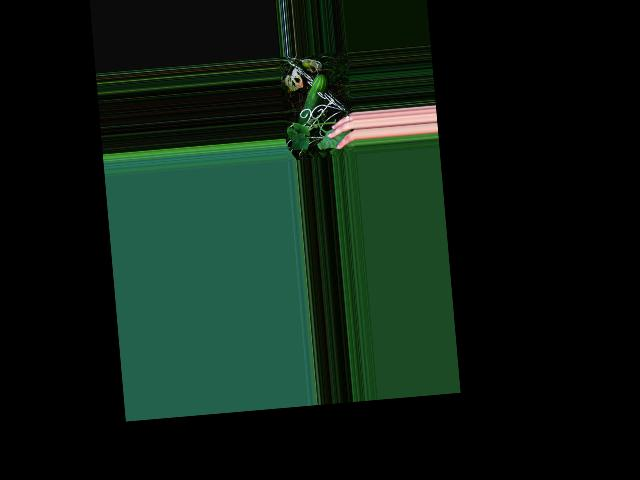cucumber: (294, 74, 331, 125)
